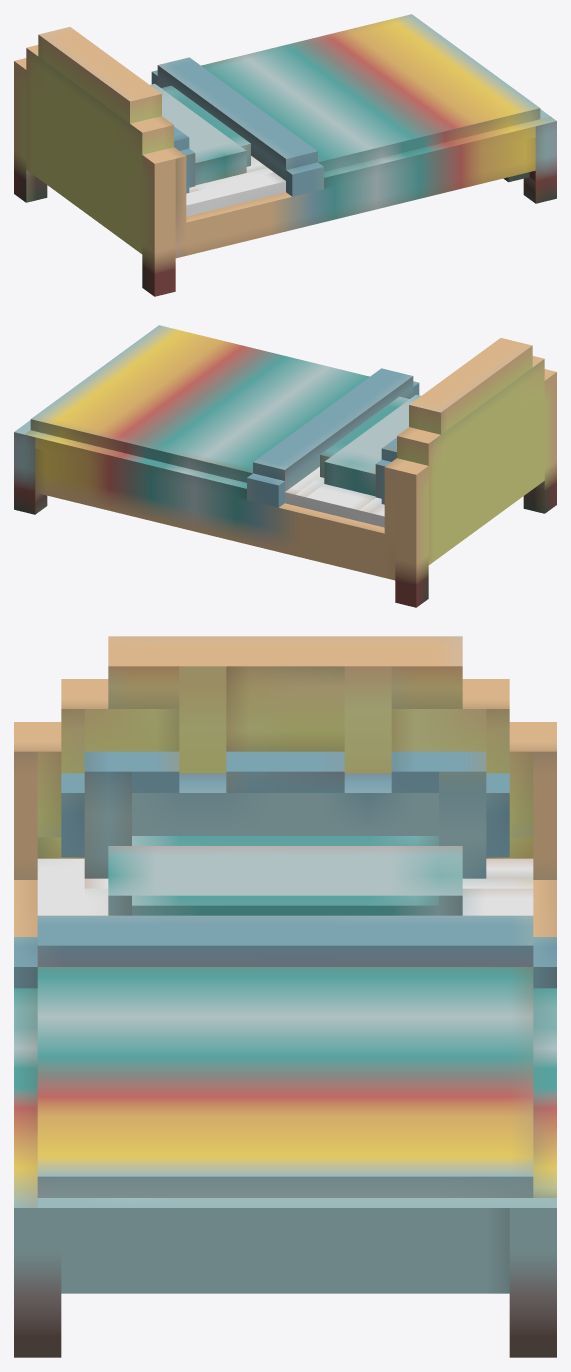
File: KiddieBed_00.obj
3 renders of one model, top to bottom at view 1: azimuth 30°, elevation 25°; view 2: azimuth 150°, elevation 25°; view 3: azimuth 270°, elevation 25°, orthographic. The views are drawn at different scales.
Parts seen in each view (by area): view 1: KiddieBed_00; view 2: KiddieBed_00; view 3: KiddieBed_00.
Boxes of the visible parts, x1,y1,x2,y2 form: KiddieBed_00: (14,14,556,296); KiddieBed_00: (14,325,556,607); KiddieBed_00: (14,636,556,1357).
Size of the model in its own units: 1.9 by 0.8 by 1.15.
